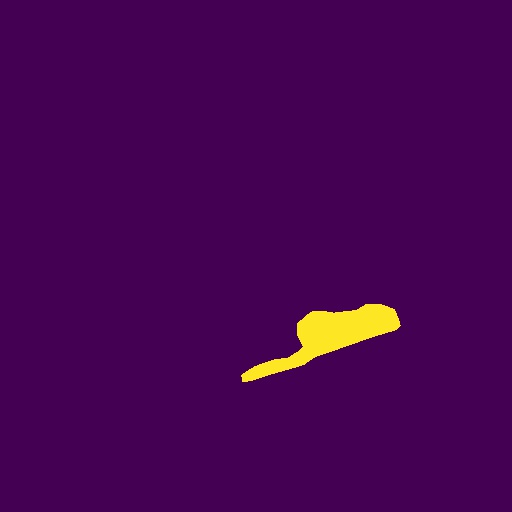Gliomia_tumour: (241, 304, 401, 382)
